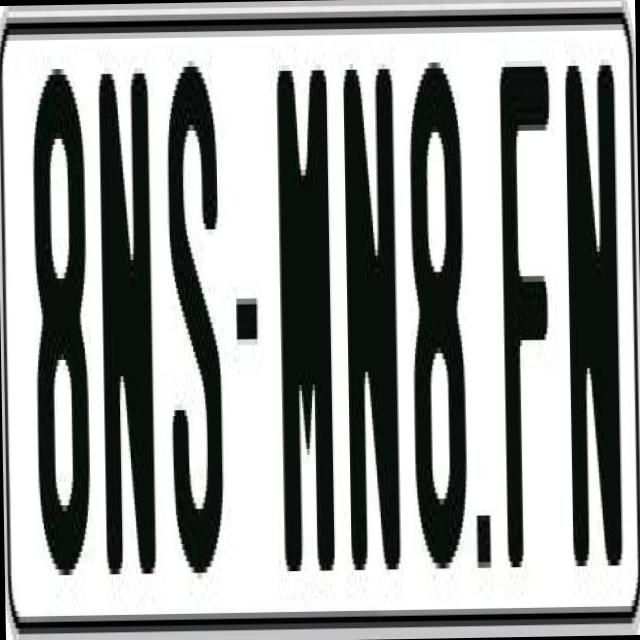8: (405, 55, 468, 592), (31, 68, 94, 593)
F: (496, 48, 558, 579)
M: (274, 58, 334, 566)
N: (342, 63, 408, 582), (96, 61, 161, 574), (564, 53, 624, 560)
S: (166, 48, 226, 555)
